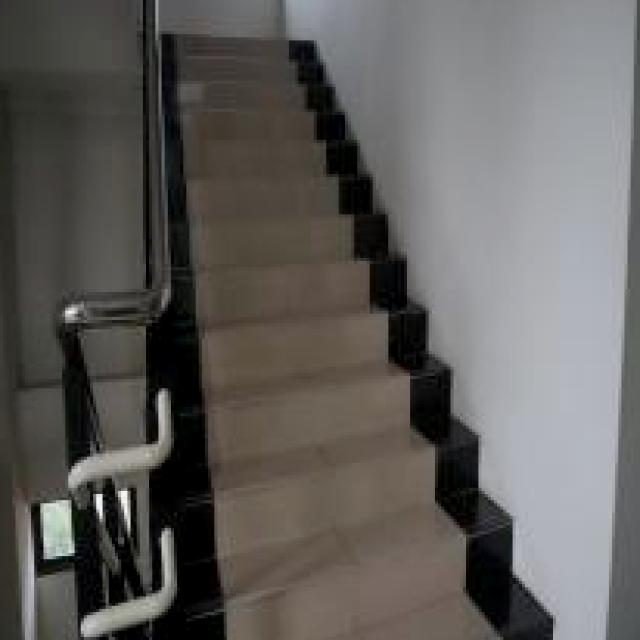upstair: (178, 19, 470, 640)
